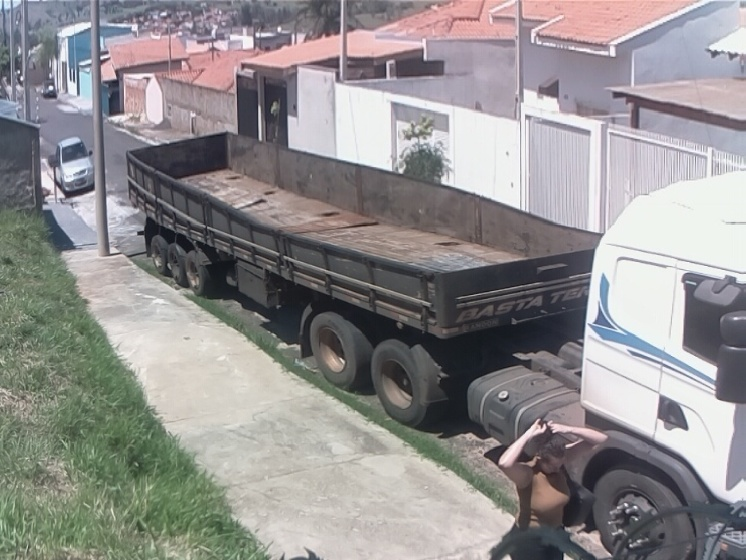person: (495, 418, 609, 560)
